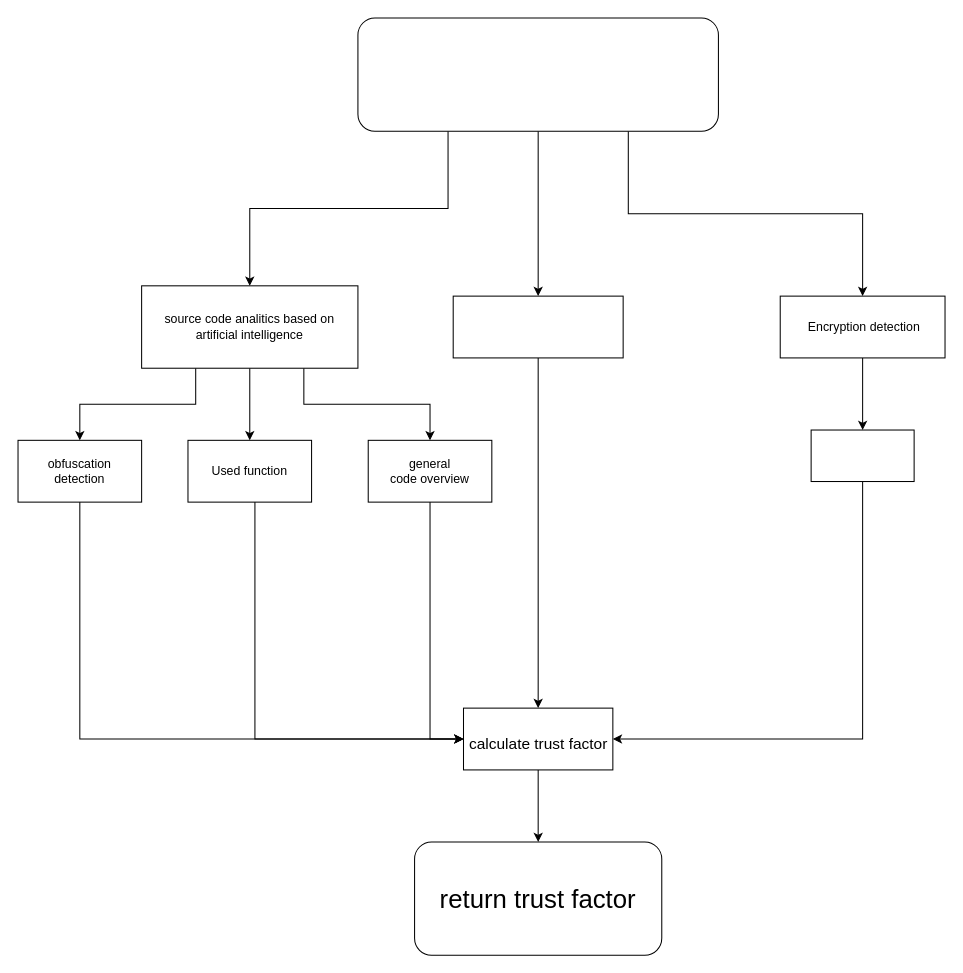
The diagram is 963 pixels wide and 973 high, and some of its shapes have lost their labels. The shapes that lost their labels are listed below. From the top down, each one's centre as x and y in pixels, then its label:
the point at 537,74: Second Layer
the point at 537,326: Analytics of the used function and syscalls
the point at 862,455: CyberChef
